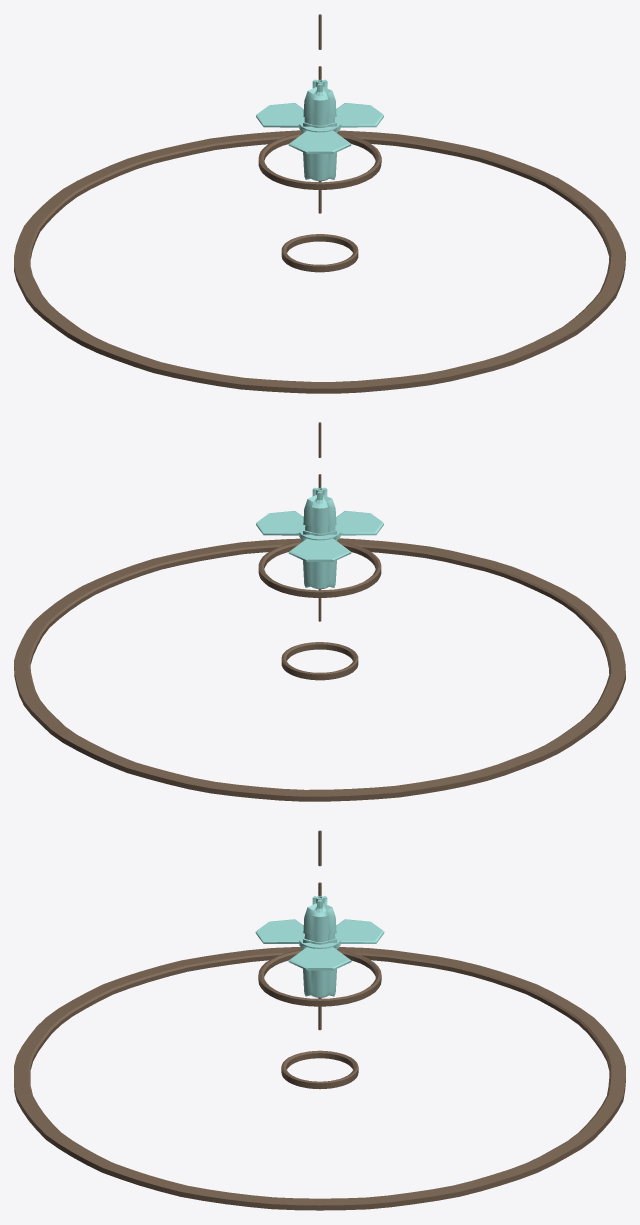
File: S_InnerRing.fbx
3 views of the same model, one above another, from view 1: azimuth 30°, elevation 25°; view 2: azimuth 150°, elevation 25°; view 3: azimuth 270°, elevation 25° (orthographic).
Visible parts, largest first — view 1: Rings, Tower; view 2: Rings, Tower; view 3: Rings, Tower.
Boxes of the visible parts, x1=… form: Rings: x1=14, y1=130, x2=625, y2=393; Tower: x1=256, y1=14, x2=383, y2=213; Rings: x1=14, y1=538, x2=625, y2=801; Tower: x1=256, y1=422, x2=383, y2=621; Rings: x1=14, y1=947, x2=625, y2=1210; Tower: x1=255, y1=830, x2=384, y2=1030.
Bounding box in the file's own units: 8644 × 3909 × 8644.
